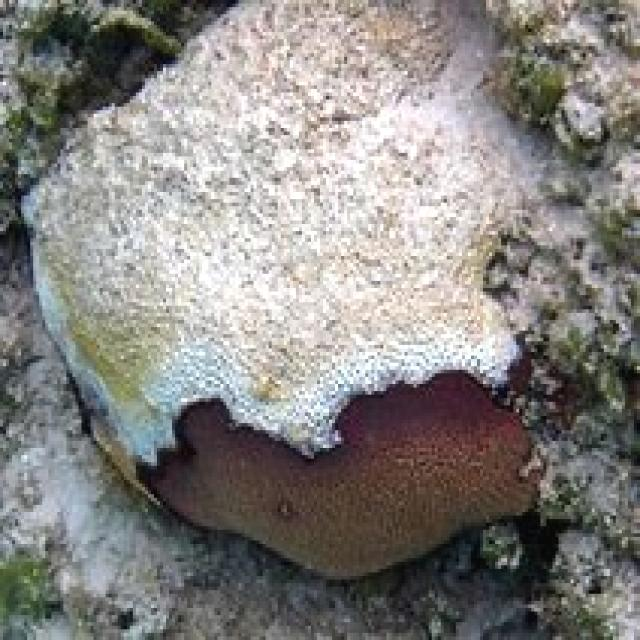Coral: (22, 0, 640, 581)
